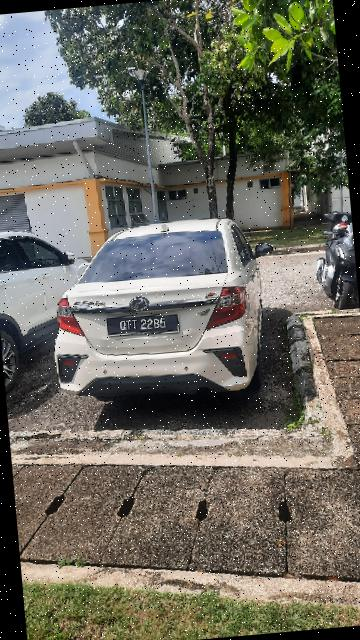License_Plate: (104, 310, 185, 343)
car: (42, 202, 288, 410)
